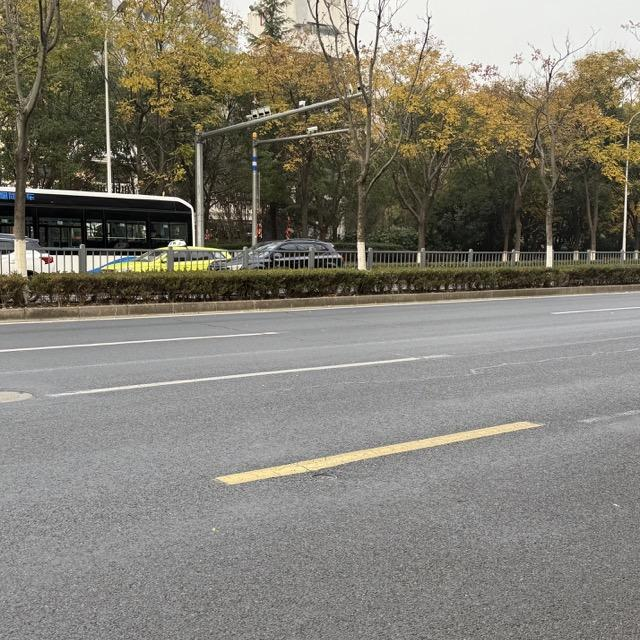curb: (0, 284, 639, 322)
